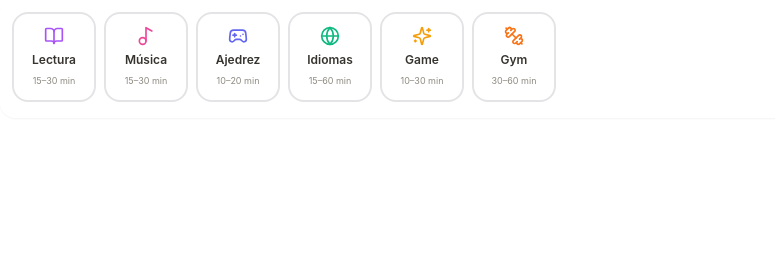
it: MejoraProcessPanel crash repro › selecting an area renders detail
Click the text "Lectura".
click(54, 60)  # box [32, 52, 76, 68]
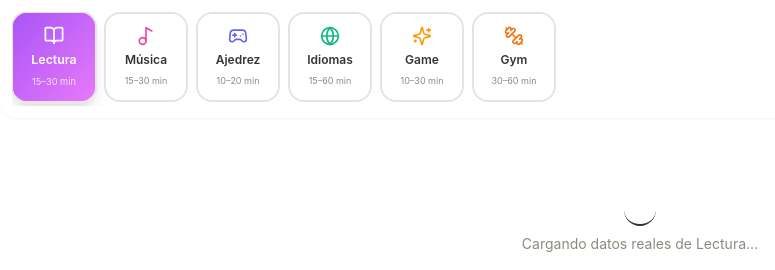
expect the text "Cargando datos reales de Lectura..." is shown: met, box [522, 234, 758, 254]
